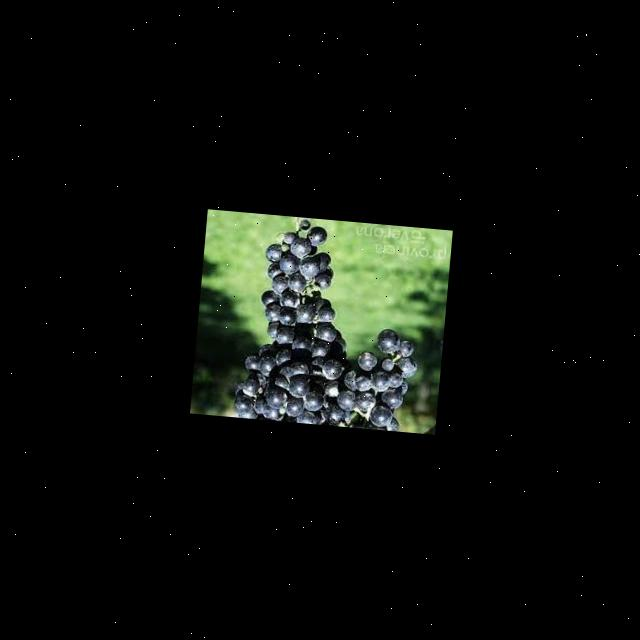grape: (232, 212, 428, 431)
